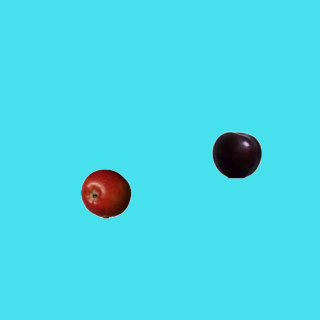Apple Braeburn: (80, 168, 130, 218)
Cherry Wax Black: (211, 129, 261, 179)
